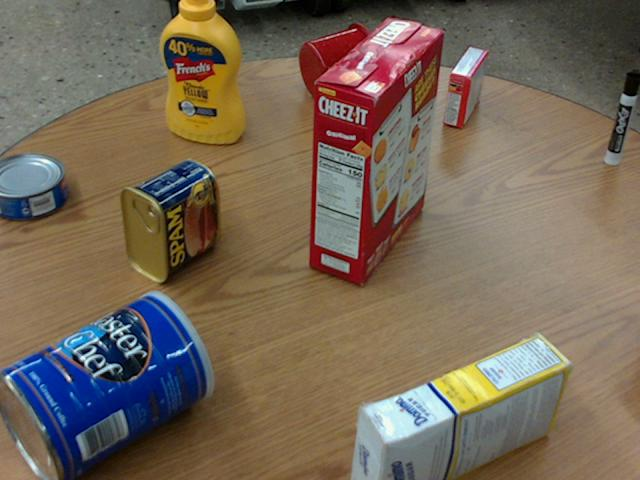cracker_box: (308, 18, 440, 283)
gelatin_box: (443, 47, 489, 128)
large_marker: (604, 70, 639, 163)
master_chef_can: (0, 290, 211, 479)
mug: (297, 21, 380, 100)
mustard_bottle: (159, 0, 242, 142)
potted_meat_can: (118, 157, 217, 281)
sugar_box: (349, 333, 569, 479)
tuna_fish_can: (0, 152, 67, 218)
